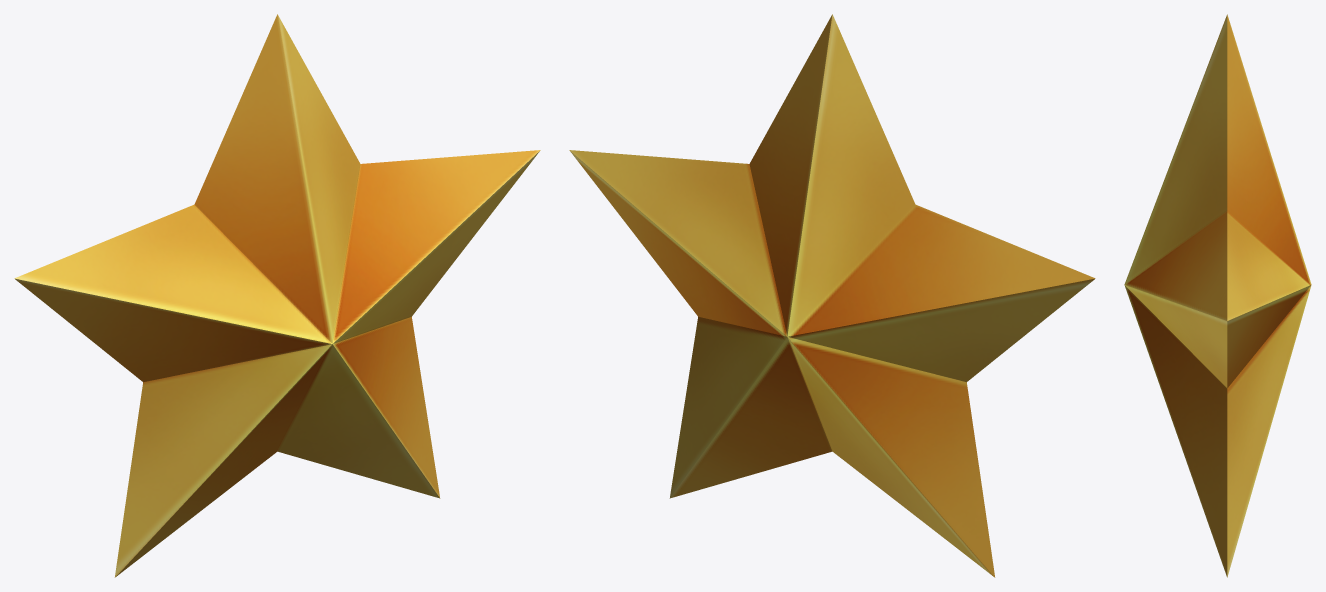
File: 72_star.FBX
The picture shows the model from 3 angles, left to right: view 1: azimuth 30°, elevation 25°; view 2: azimuth 150°, elevation 25°; view 3: azimuth 270°, elevation 25°; orthographic projection. The views are drawn at different scales.
Parts seen in each view (by area): view 1: Star001; view 2: Star001; view 3: Star001.
Part boxes in pixels (x1,y1,x2,y2): Star001: (14,14,540,577); Star001: (569,14,1095,577); Star001: (1124,14,1311,577).
Size of the model in its own units: 48.6 by 46.22 by 16.01.
